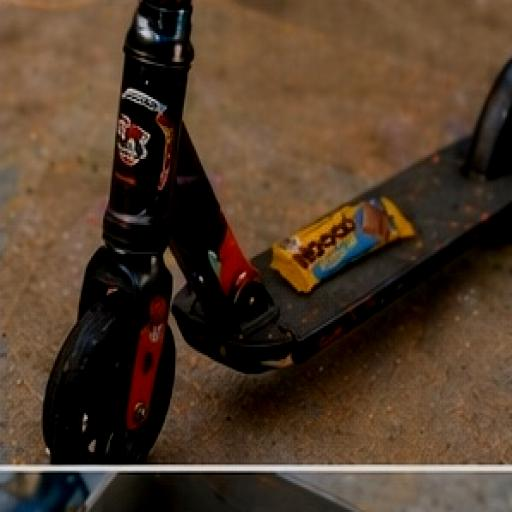nooco: (252, 184, 464, 337)
